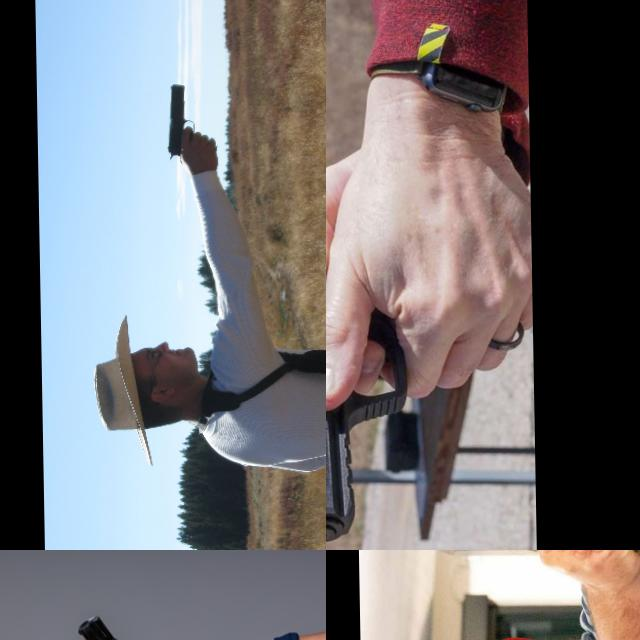handgun: (326, 195, 412, 548), (477, 550, 552, 627), (72, 609, 169, 640), (162, 79, 196, 166)
